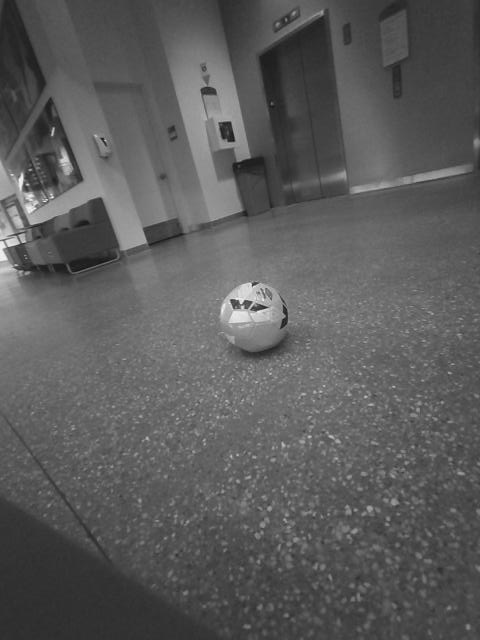ball: (210, 270, 306, 360)
